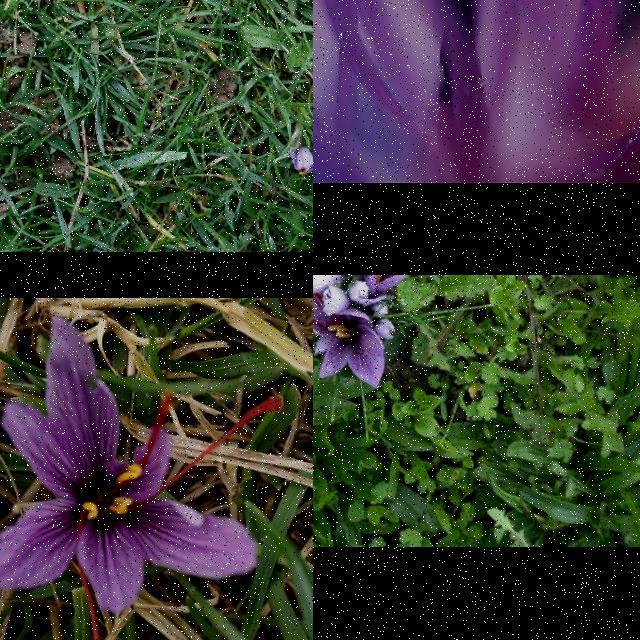flower: (0, 315, 285, 640), (289, 147, 313, 176)
overlap: (313, 275, 423, 390)
